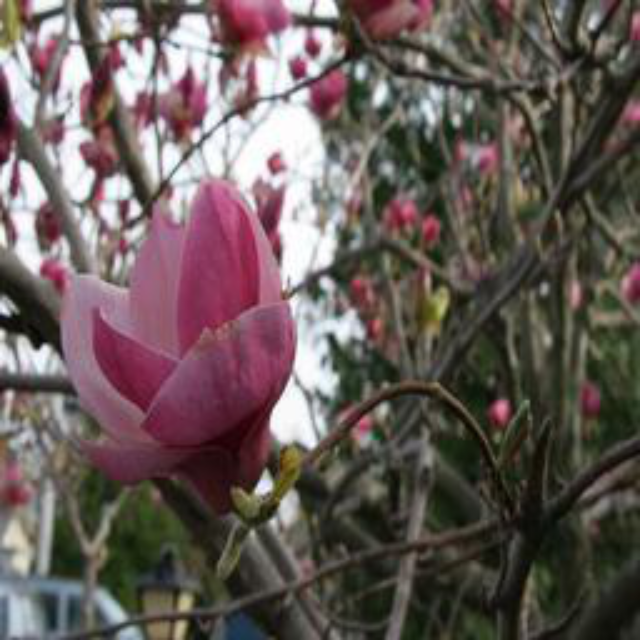magnolia: (53, 175, 298, 520)
